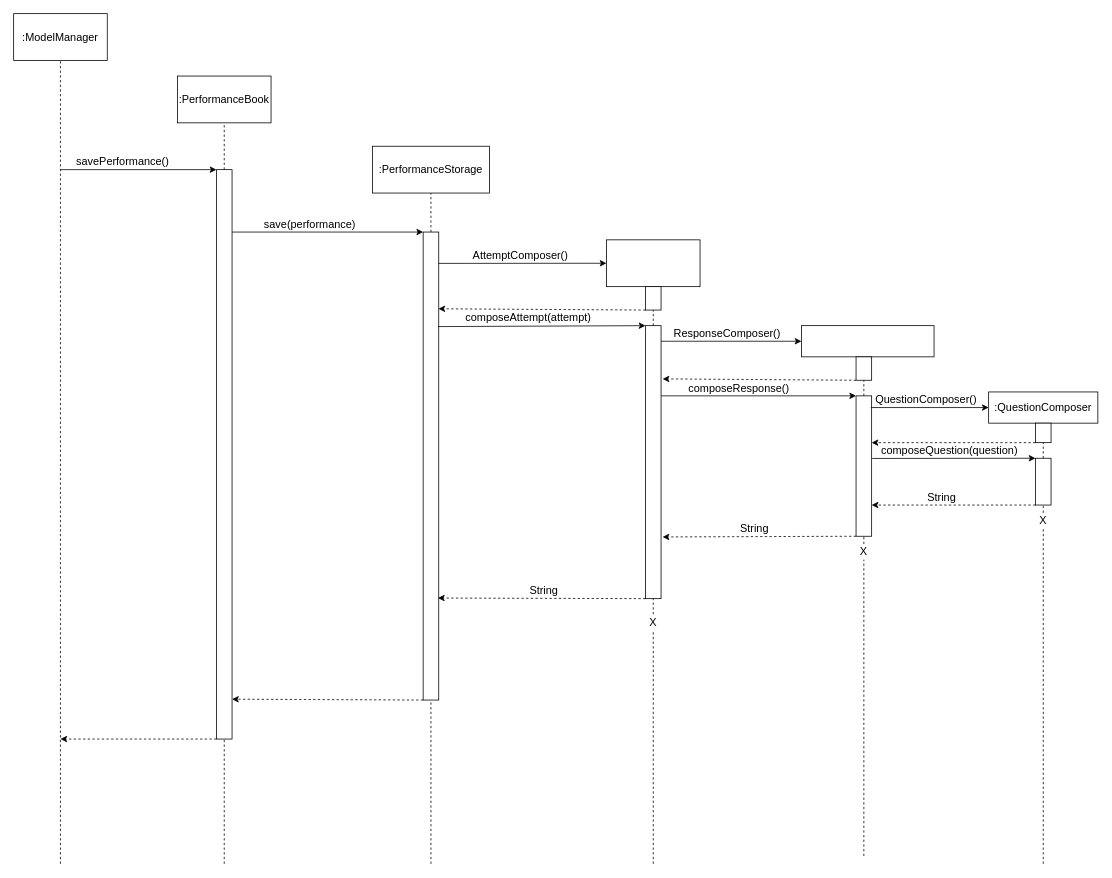
This 1112x878 diagram has some shape labels left out. The centre of each missing label's shape, as x and y in pixels:
:AttemptComposer: point 653,263
:ResponseComposer: point 867,341
